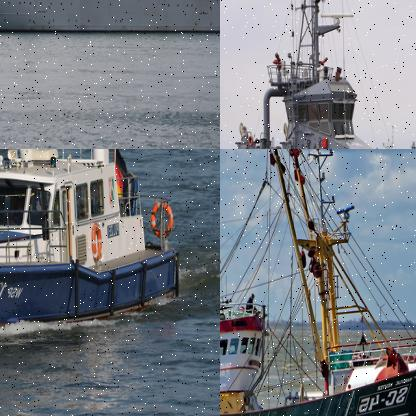Fishing Boat: (220, 149, 415, 415)
Military Ship: (220, 0, 415, 148), (0, 0, 219, 32)
Patrol Boat: (0, 149, 181, 343)
